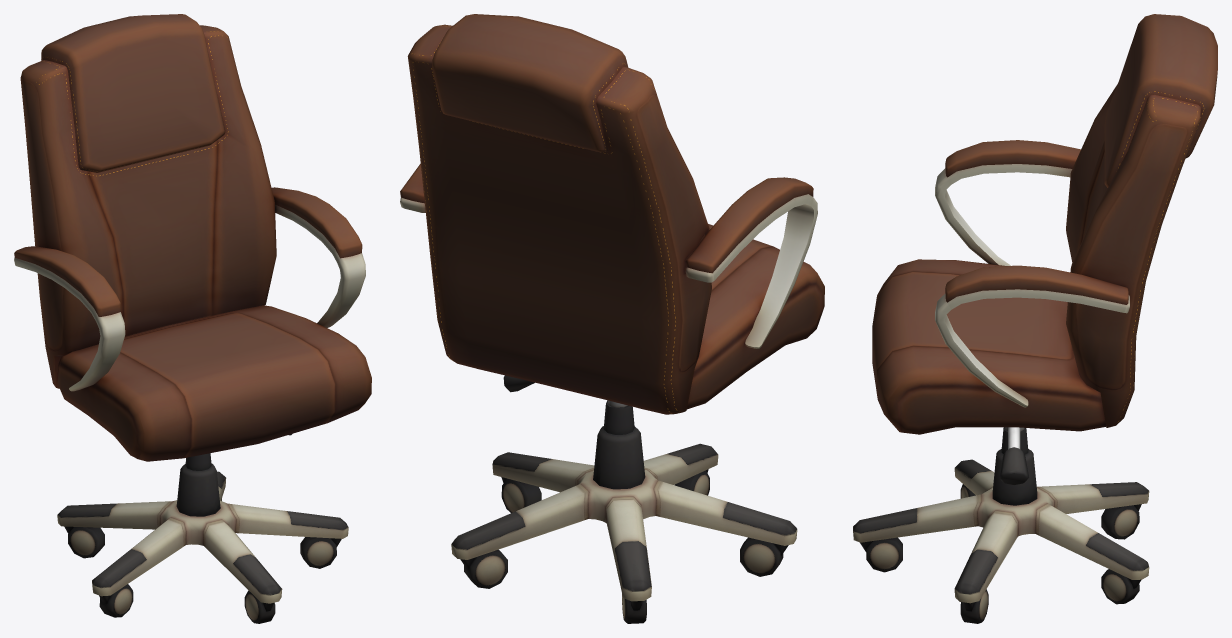
The model's file is OfficeChair03.FBX.
The picture shows the model from 3 angles, left to right: view 1: azimuth 30°, elevation 25°; view 2: azimuth 150°, elevation 25°; view 3: azimuth 270°, elevation 25°; orthographic projection. The views are drawn at different scales.
Visible parts, largest first — view 1: OfficeChair03; view 2: OfficeChair03; view 3: OfficeChair03.
Part boxes in pixels (<box>): OfficeChair03: <box>14,14,371,623</box>; OfficeChair03: <box>400,14,824,623</box>; OfficeChair03: <box>853,14,1217,623</box>.
Size of what is drawn, in the model's own units: 0.7817 by 1.4 by 0.8714.
